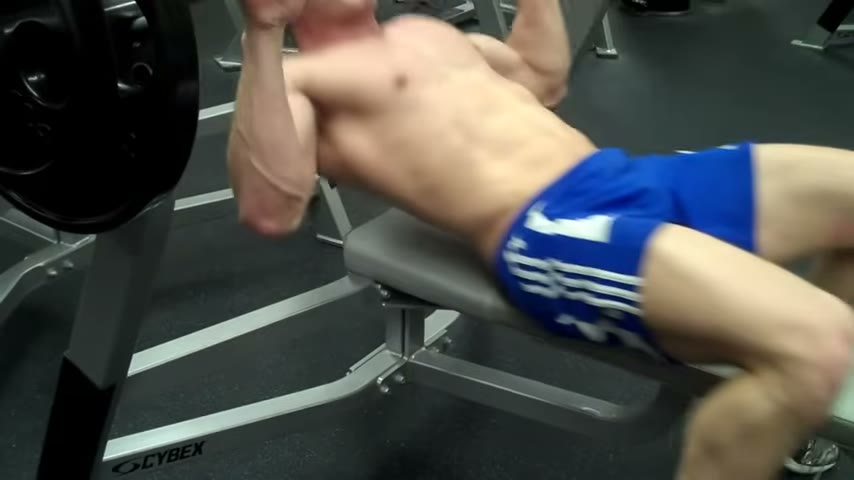barbell_plate_side: (160, 6, 383, 480)
